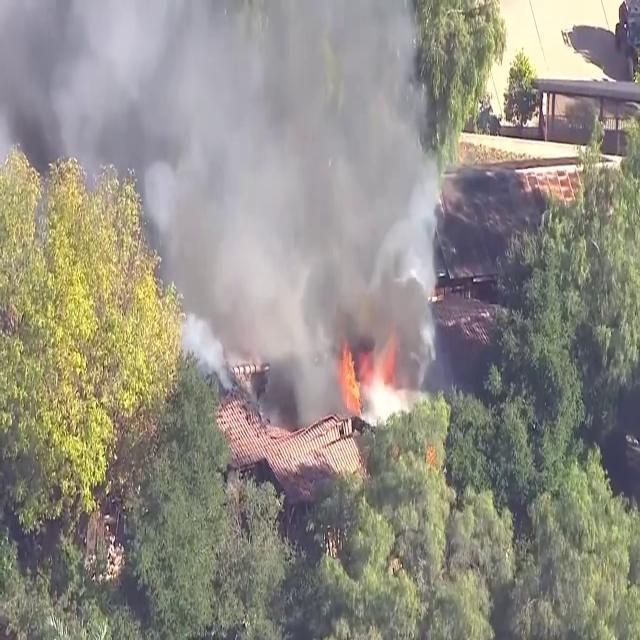Fire: (338, 334, 364, 418)
Smoke: (90, 0, 446, 407)
